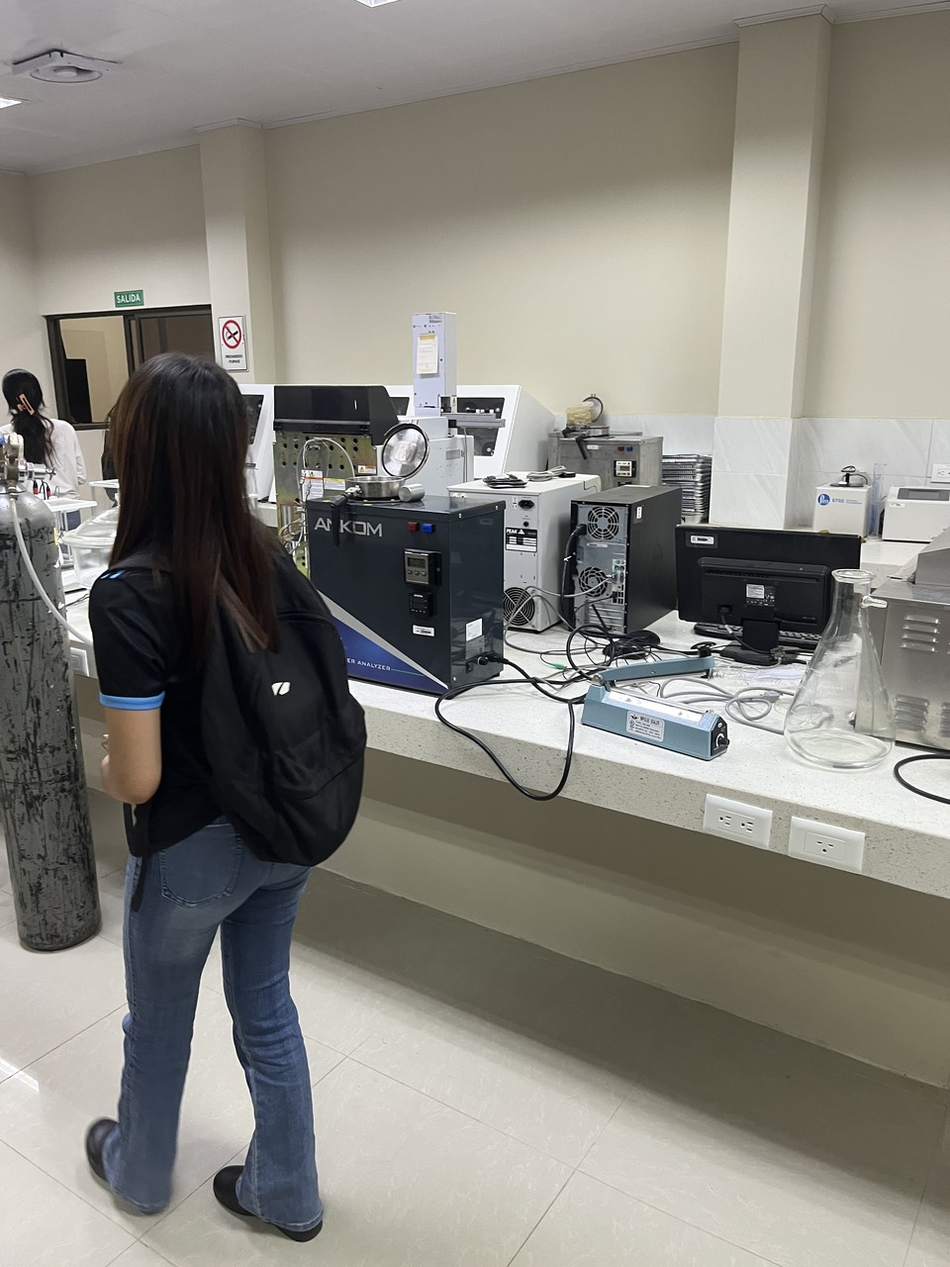ankom_200_fiber_analyzer: (289, 425, 507, 703)
